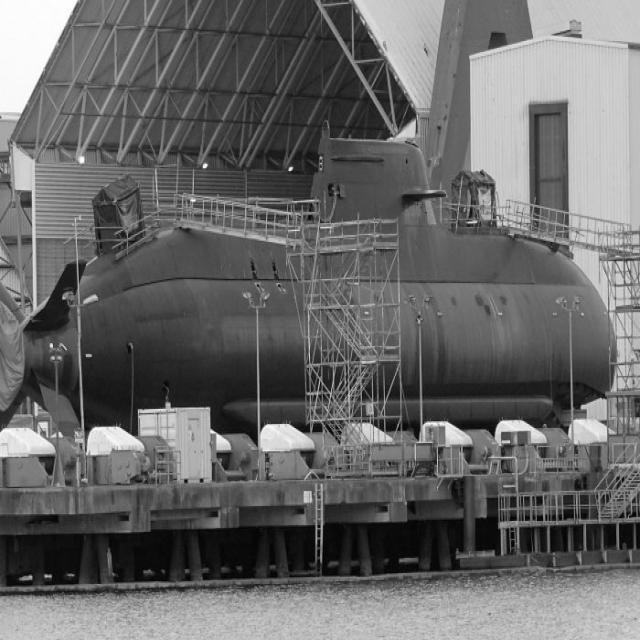submarine: (1, 123, 621, 450)
